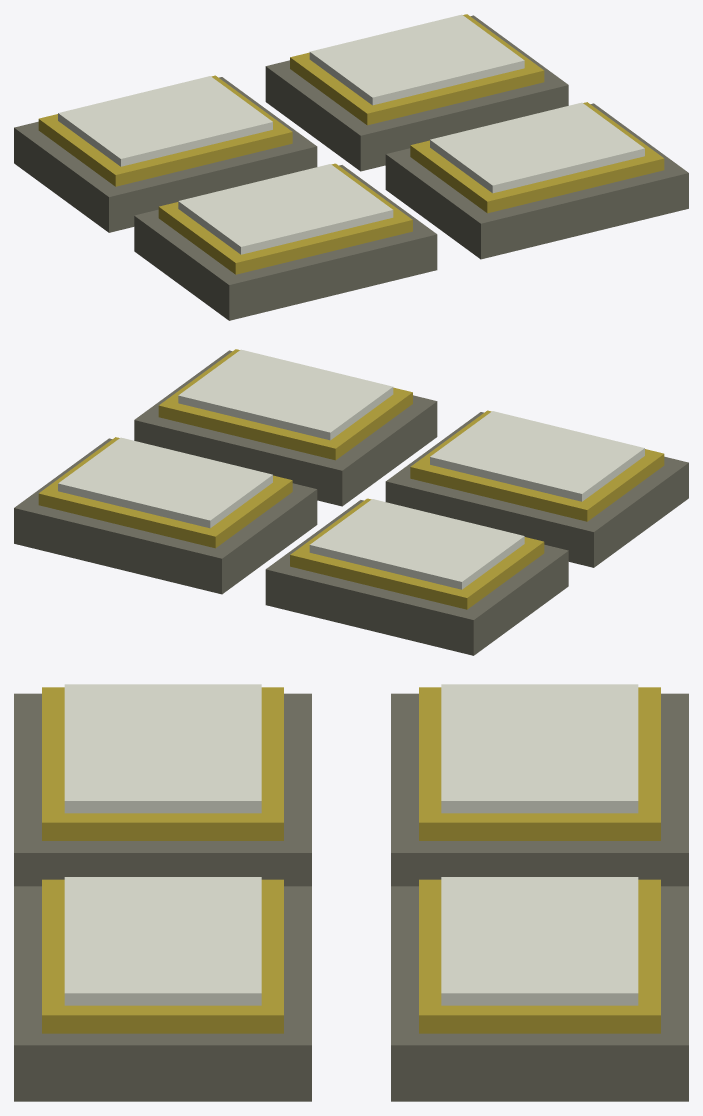
File: CMU3DLandingFloodlight.glb
The picture shows the model from 3 angles, top to bottom: view 1: azimuth 30°, elevation 25°; view 2: azimuth 150°, elevation 25°; view 3: azimuth 270°, elevation 25°; orthographic projection. The views are drawn at different scales.
Visible parts, largest first — view 1: floodlight floor housing (×4), pale floodlight lens (×4), yellow light bezel (×4); view 2: floodlight floor housing (×4), pale floodlight lens (×4), yellow light bezel (×4); view 3: pale floodlight lens (×4), floodlight floor housing (×4), yellow light bezel (×4).
Part boxes in pixels (x1,y1,x2,y2): floodlight floor housing (×4): (14,15,688,320); pale floodlight lens (×4): (58,14,644,254); yellow light bezel (×4): (38,14,664,274); floodlight floor housing (×4): (14,350,688,655); pale floodlight lens (×4): (58,349,644,589); yellow light bezel (×4): (38,349,664,609); pale floodlight lens (×4): (64,684,638,1005); floodlight floor housing (×4): (14,693,688,1101); yellow light bezel (×4): (42,687,660,1033).
Bounding box in the file's own units: 0.74 × 0.085 × 0.6.
